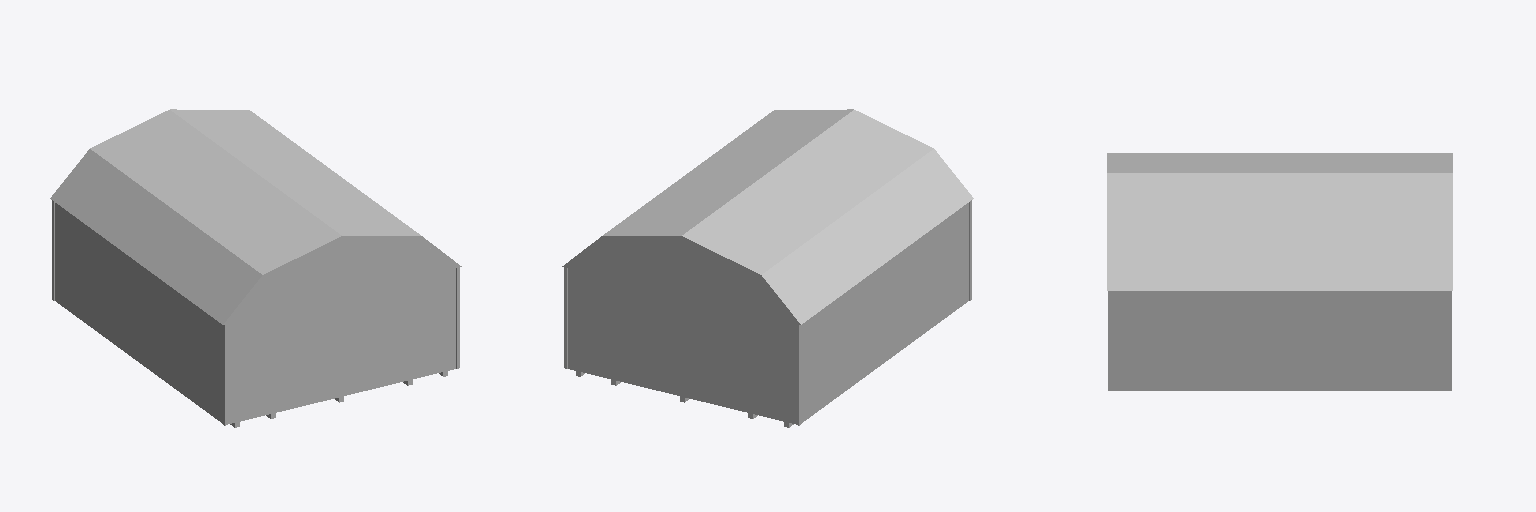
The model's file is Dutch Barn_14x20.obj.
The picture shows the model from 3 angles: view 1: azimuth 30°, elevation 25°; view 2: azimuth 150°, elevation 25°; view 3: azimuth 270°, elevation 25°; orthographic projection.
Visible parts, largest first — view 1: Dutch Barn_14x20.obj; view 2: Dutch Barn_14x20.obj; view 3: Dutch Barn_14x20.obj.
Boxes of the visible parts, x1=… form: Dutch Barn_14x20.obj: x1=50, y1=109, x2=461, y2=427; Dutch Barn_14x20.obj: x1=562, y1=109, x2=973, y2=427; Dutch Barn_14x20.obj: x1=1107, y1=153, x2=1452, y2=390.
Bounding box in the file's own units: 4.91 × 3.27 × 6.15.